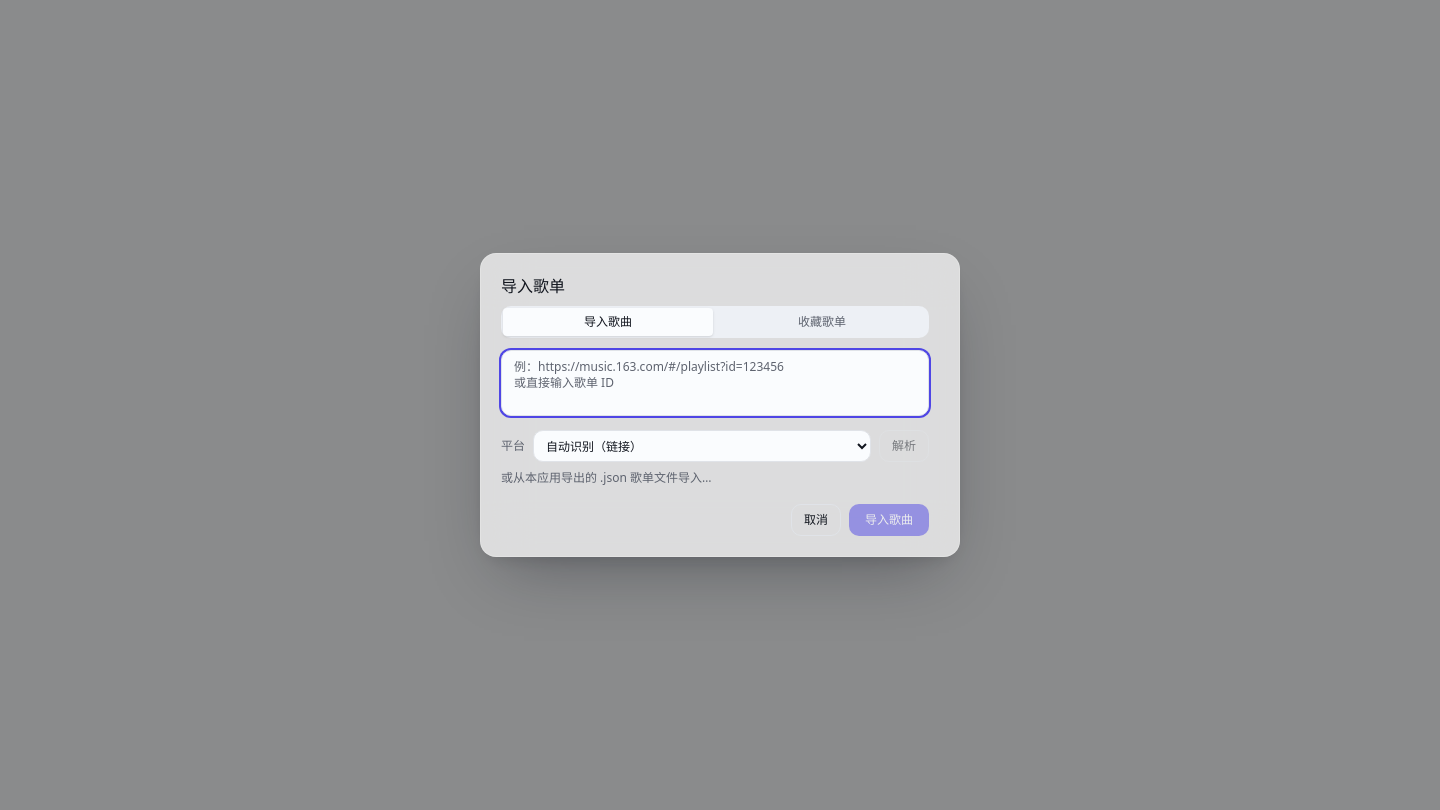
Test: 从 .json 歌单文件导入 › 解析出来一首都不剩时报可读的错误，而不是静默成功
Click the button "或从本应用导出的 .json 歌单文件导入…" at point(606, 478), box left=501, top=470, right=712, bottom=486
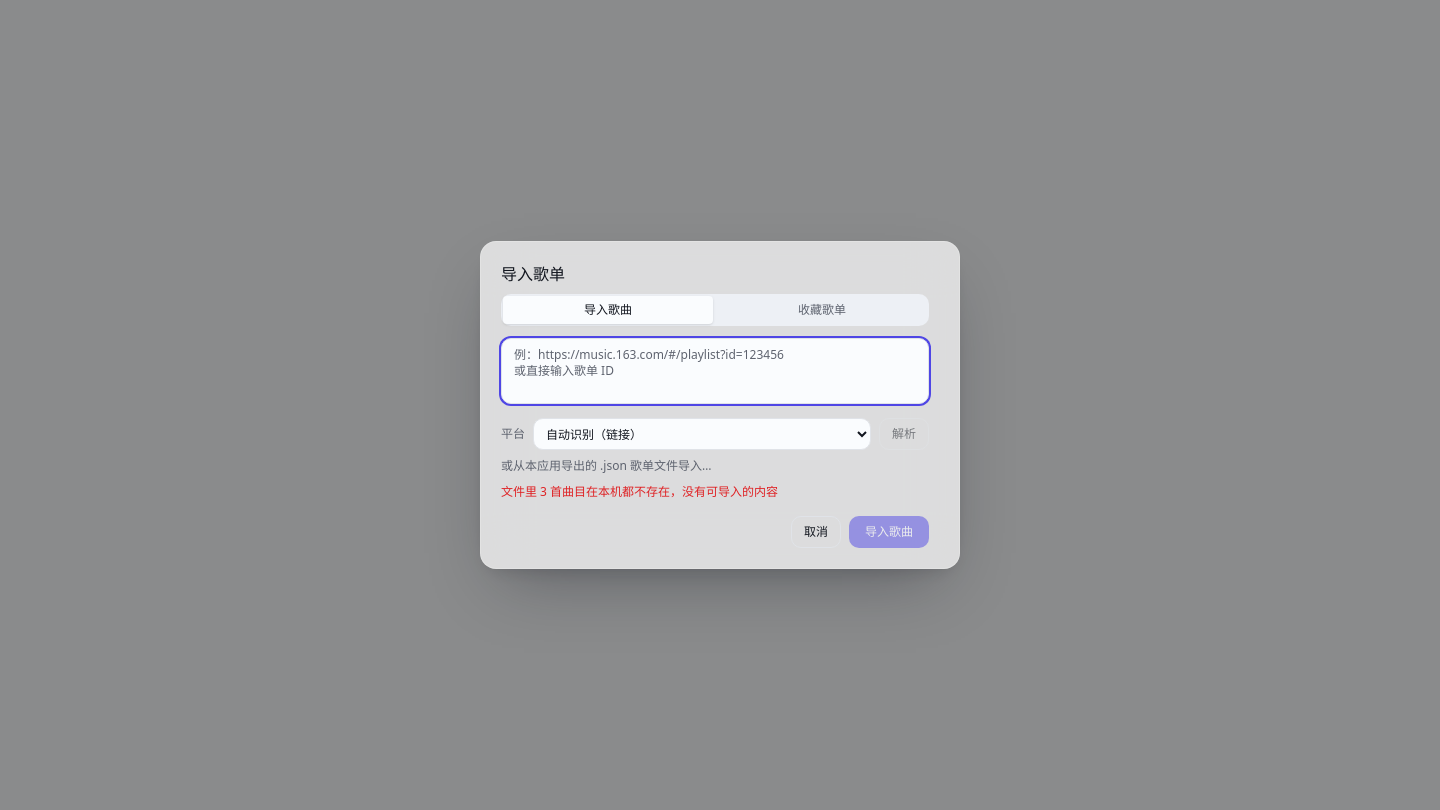
Result: the text "文件里 3 首曲目在本机都不存在，没有可导入的内容" is shown at left=501, top=483, right=778, bottom=500
